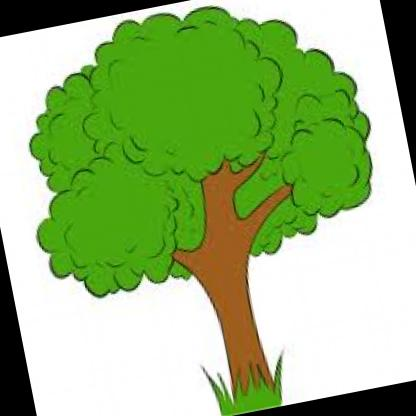branch_cut: (154, 150, 307, 283)
crown_cloud: (0, 0, 393, 308)
trunk_straight: (193, 264, 266, 364)
